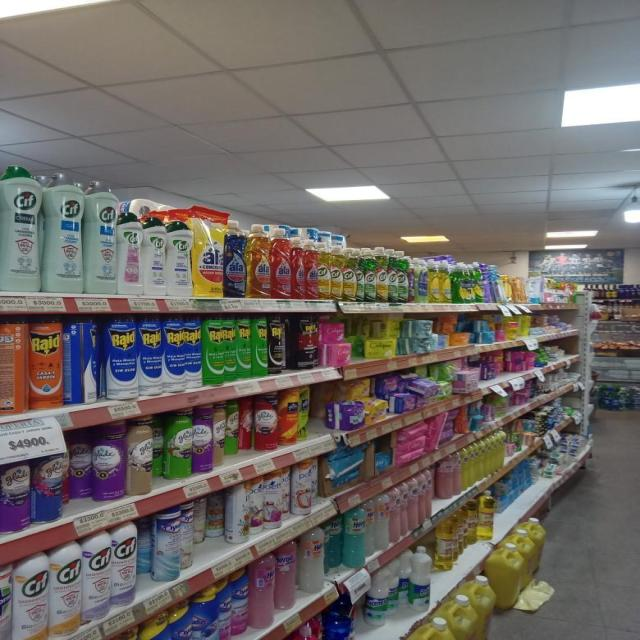ala_conc_amarillo: (247, 224, 270, 298)
ala_conc_azul: (223, 221, 246, 298)
ala_conc_rojo: (271, 228, 291, 300), (305, 236, 318, 300), (292, 232, 304, 300)
cif_conc_bot_amarilla: (317, 238, 330, 300), (342, 244, 355, 301), (331, 242, 342, 300)
cif_conc_botella_verde: (394, 248, 408, 304), (364, 246, 376, 302), (376, 247, 388, 303), (388, 248, 399, 303), (356, 246, 364, 302)
heroe: (251, 553, 274, 629), (299, 527, 323, 596), (275, 542, 297, 611), (344, 505, 366, 568), (325, 515, 342, 571), (376, 493, 390, 552), (366, 499, 376, 561)
magistral_con_amarillo: (435, 256, 452, 304), (429, 256, 442, 303)
